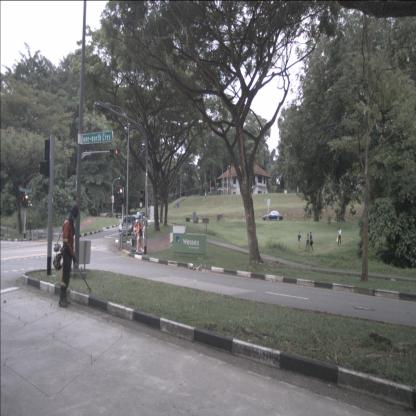human-pedestrian-adult: (134, 218, 142, 251), (141, 220, 147, 254), (336, 227, 342, 246), (309, 232, 313, 253), (297, 231, 301, 251), (305, 233, 309, 252)
vehicle-car: (118, 214, 139, 235), (263, 211, 283, 222), (140, 216, 148, 226), (135, 212, 141, 219)
